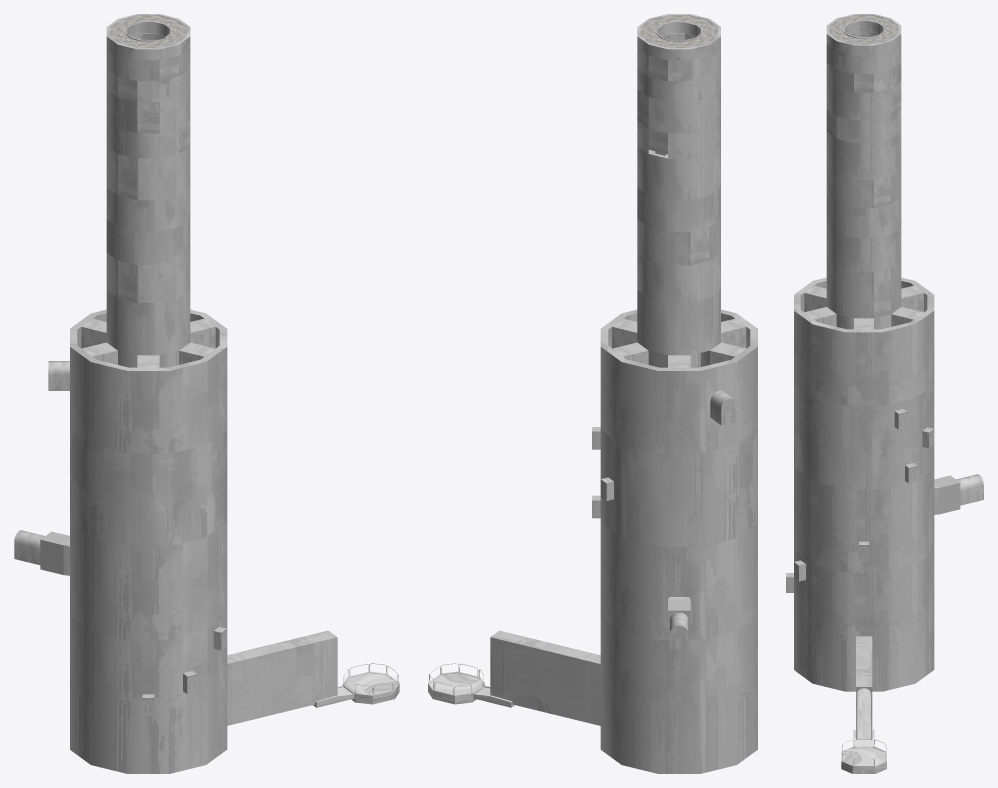
The model's file is Level01.fbx.
The picture shows the model from 3 angles, left to right: view 1: azimuth 30°, elevation 25°; view 2: azimuth 150°, elevation 25°; view 3: azimuth 270°, elevation 25°; orthographic projection. The views are drawn at different scales.
Visible parts, largest first — view 1: Torus.060, Torus.054, Torus.053, Torus.057, Cube.093, Torus.045, Torus.002, Torus.039, Torus.033, Torus.028, Torus.036, Torus.015 (+7 smaller); view 2: Torus.060, Torus.054, Torus.053, Torus.057, Cube.093, Torus.045, Torus.033, Torus.036, Torus.002, Torus.028, Torus.015, Torus.039 (+8 smaller); view 3: Torus.060, Torus.053, Torus.057, Torus.054, Torus.033, Torus.045, Torus.036, Torus.002, Torus.039, Torus.015, Torus.028, Torus.001 (+15 smaller).
Boxes of the visible parts, bbox=[...] form: Torus.060: bbox=[70, 616, 227, 773]; Torus.054: bbox=[70, 429, 227, 546]; Torus.053: bbox=[70, 309, 227, 453]; Torus.057: bbox=[70, 523, 227, 639]; Cube.093: bbox=[227, 630, 337, 725]; Torus.045: bbox=[106, 290, 190, 355]; Torus.002: bbox=[106, 14, 190, 60]; Torus.039: bbox=[106, 219, 190, 265]; Torus.033: bbox=[106, 146, 190, 200]; Torus.028: bbox=[106, 188, 190, 231]; Torus.036: bbox=[106, 253, 190, 302]; Torus.015: bbox=[106, 89, 190, 133]; Torus.060: bbox=[600, 616, 757, 773]; Torus.054: bbox=[600, 429, 757, 546]; Torus.053: bbox=[600, 309, 757, 453]; Torus.057: bbox=[600, 523, 757, 639]; Cube.093: bbox=[490, 630, 600, 725]; Torus.045: bbox=[637, 290, 720, 355]; Torus.033: bbox=[637, 146, 720, 200]; Torus.036: bbox=[637, 252, 720, 302]; Torus.002: bbox=[637, 14, 720, 60]; Torus.028: bbox=[637, 187, 720, 231]; Torus.015: bbox=[648, 89, 720, 133]; Torus.039: bbox=[637, 219, 720, 265]; Torus.060: bbox=[794, 551, 934, 691]; Torus.053: bbox=[794, 277, 934, 405]; Torus.057: bbox=[794, 467, 934, 572]; Torus.054: bbox=[794, 384, 934, 488]; Torus.033: bbox=[826, 131, 901, 180]; Torus.045: bbox=[826, 260, 901, 318]; Torus.036: bbox=[826, 227, 901, 271]; Torus.002: bbox=[826, 14, 901, 55]; Torus.039: bbox=[826, 197, 901, 237]; Torus.015: bbox=[826, 81, 891, 120]; Torus.028: bbox=[826, 169, 901, 208]; Torus.001: bbox=[826, 31, 901, 73].
Bounding box in the file's own units: 8103 × 17096 × 4800.
